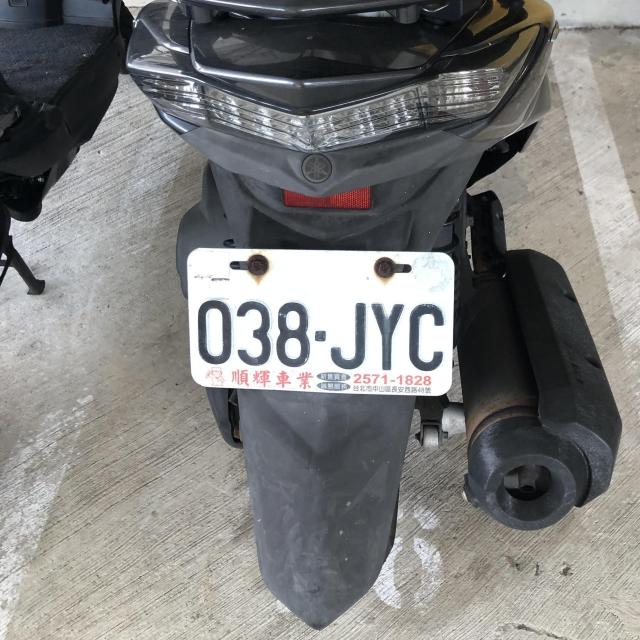W: (181, 243, 460, 399)
